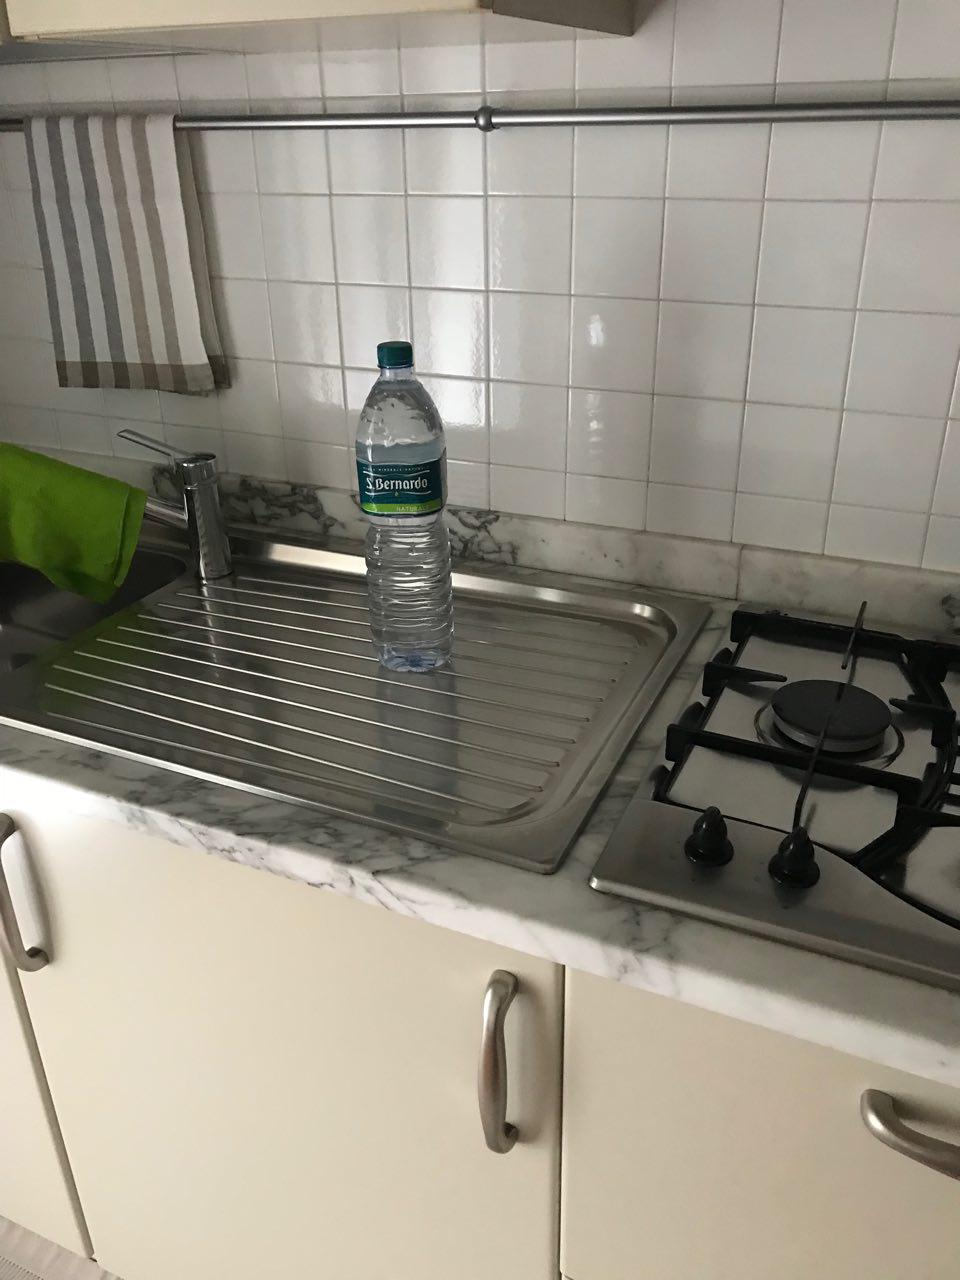san_bernardo: (354, 340, 454, 672)
